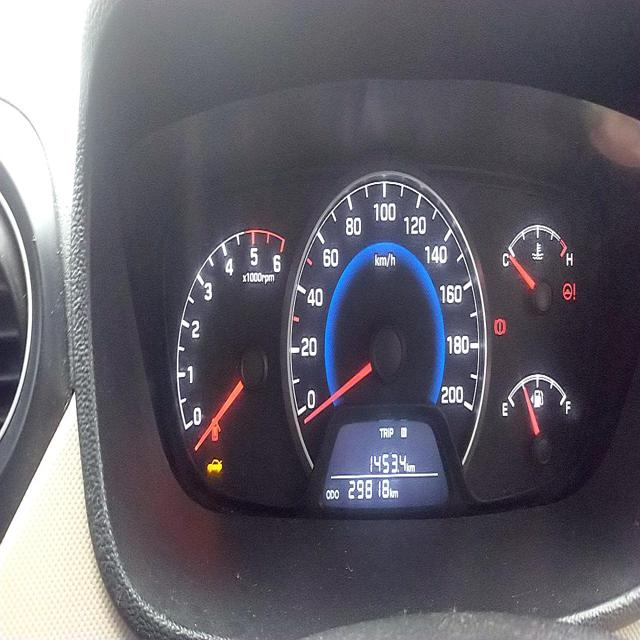odometer: (346, 476, 389, 504)
